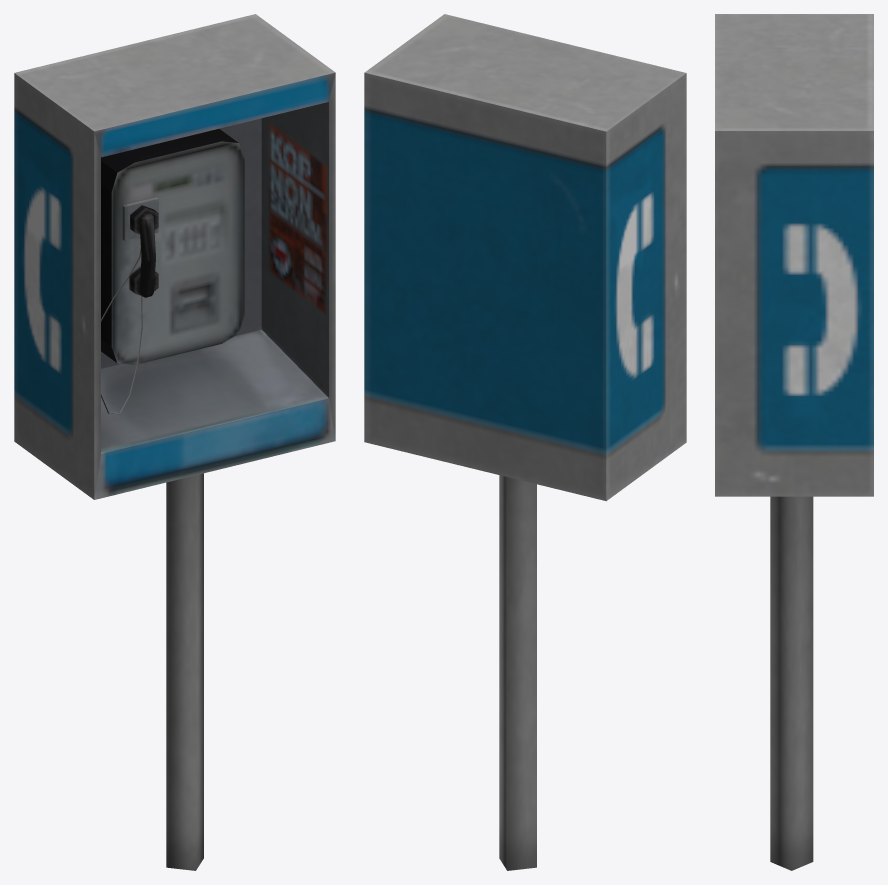
File: streetphone.FBX
The picture shows the model from 3 angles, left to right: view 1: azimuth 30°, elevation 25°; view 2: azimuth 150°, elevation 25°; view 3: azimuth 270°, elevation 25°; orthographic projection.
Visible parts, largest first — view 1: prop_phone_LOD0; view 2: prop_phone_LOD0; view 3: prop_phone_LOD0.
Part boxes in pixels (left/top/right/bottom): prop_phone_LOD0: left=14, top=14, right=335, bottom=870; prop_phone_LOD0: left=364, top=14, right=686, bottom=870; prop_phone_LOD0: left=715, top=14, right=873, bottom=870.
Size of what is drawn, in the model's own units: 0.8439 by 2.64 by 0.4845.
